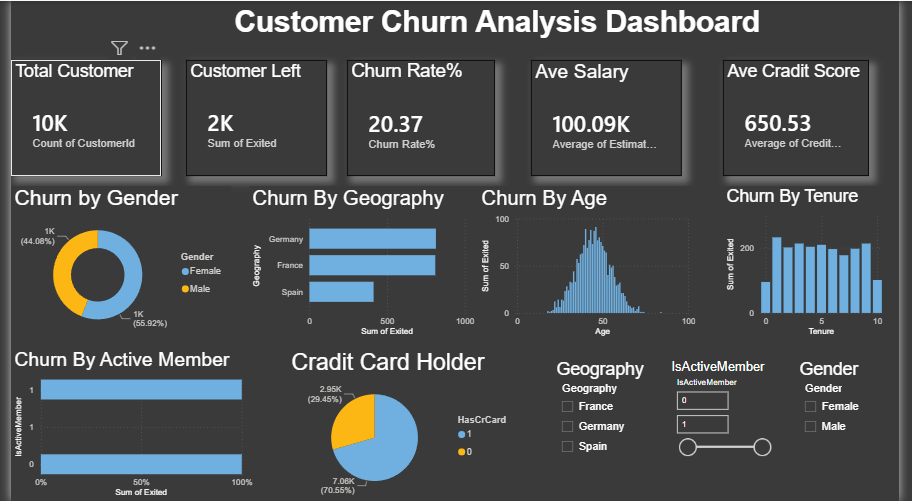

Layout of this report page (visuals, bound fields, positions):
{"tool":"powerbi","page":{"name":"Page 1","canvas":[1280,720],"ordinal":0},"visuals":[{"type":"cardVisual","title":"Total Customer","fields":{"Data":["CountNonNull(Churn_Modelling.CustomerId)"]},"box":[0,85,216.7,166.7],"z":0},{"type":"cardVisual","title":"Churn Rate%","fields":{"Data":["Churn_Modelling.Churn Rate%"]},"box":[483.3,85,213.3,166.7],"z":1000},{"type":"cardVisual","title":"Ave Salary","fields":{"Data":["Avg(Churn_Modelling.EstimatedSalary)"]},"box":[748.3,85,216.7,166.7],"z":2000},{"type":"cardVisual","title":"Customer Left","fields":{"Data":["Sum(Churn_Modelling.Exited)"]},"box":[251.7,85,203.3,166.7],"z":3000},{"type":"textbox","box":[316.8,0,786.2,69.1],"z":4000},{"type":"cardVisual","title":"Ave Cradit Score","fields":{"Data":["Avg(Churn_Modelling.CreditScore)"]},"box":[1025,85,210,166.7],"z":5000},{"type":"donutChart","title":"Churn by Gender","fields":{"Y":["Sum(Churn_Modelling.Exited)"],"Category":["Churn_Modelling.Gender"]},"box":[0,266.4,316.8,221.8],"z":6000},{"type":"clusteredBarChart","title":"Churn By Geography","fields":{"Category":["Churn_Modelling.Geography"],"Y":["Sum(Churn_Modelling.Exited)"]},"box":[342.7,266.4,329.8,221.8],"z":7000},{"type":"clusteredColumnChart","title":"Churn By Age","fields":{"Category":["Churn_Modelling.Age"],"Y":["Sum(Churn_Modelling.Exited)"]},"box":[672.5,266.4,318.2,221.8],"z":8000},{"type":"hundredPercentStackedBarChart","title":"Churn By Active Member","fields":{"Category":["Churn_Modelling.IsActiveMember"],"Y":["Sum(Churn_Modelling.Exited)"]},"box":[0,501.7,353.3,218.3],"z":9000},{"type":"pieChart","title":"Cradit Card Holder","fields":{"Category":["Churn_Modelling.HasCrCard"],"Y":["CountNonNull(Churn_Modelling.CustomerId)"]},"box":[398.3,501.7,338.3,218.3],"z":10000},{"type":"slicer","title":"Gender","fields":{"Values":["Churn_Modelling.Gender"]},"box":[1130.4,515.5,129.6,168.5],"z":11000},{"type":"slicer","title":"Geography","fields":{"Values":["Churn_Modelling.Geography"]},"box":[780.5,515.5,151.2,168.5],"z":12000},{"type":"slicer","title":"IsActiveMember","fields":{"Values":["Churn_Modelling.IsActiveMember"]},"box":[946.1,515.5,157,168.5],"z":13000},{"type":"clusteredColumnChart","title":"Churn By Tenure","fields":{"Category":["Churn_Modelling.Tenure"],"Y":["Sum(Churn_Modelling.Exited)"]},"box":[1025.3,266.4,234.7,221.8],"z":13001}]}

Visuals, with their boxes in screenshot pixels (x1, y1, x2, y2), scaled from the page's 1280x720 canvas onto the 912x501 screenshot:
"Total Customer" cardVisual: bbox(0, 59, 154, 175)
"Churn Rate%" cardVisual: bbox(344, 59, 496, 175)
"Ave Salary" cardVisual: bbox(533, 59, 688, 175)
"Customer Left" cardVisual: bbox(179, 59, 324, 175)
textbox: bbox(226, 0, 786, 48)
"Ave Cradit Score" cardVisual: bbox(730, 59, 880, 175)
"Churn by Gender" donutChart: bbox(0, 185, 226, 340)
"Churn By Geography" clusteredBarChart: bbox(244, 185, 479, 340)
"Churn By Age" clusteredColumnChart: bbox(479, 185, 706, 340)
"Churn By Active Member" hundredPercentStackedBarChart: bbox(0, 349, 252, 500)
"Cradit Card Holder" pieChart: bbox(284, 349, 525, 500)
"Gender" slicer: bbox(805, 359, 898, 476)
"Geography" slicer: bbox(556, 359, 664, 476)
"IsActiveMember" slicer: bbox(674, 359, 786, 476)
"Churn By Tenure" clusteredColumnChart: bbox(731, 185, 898, 340)
